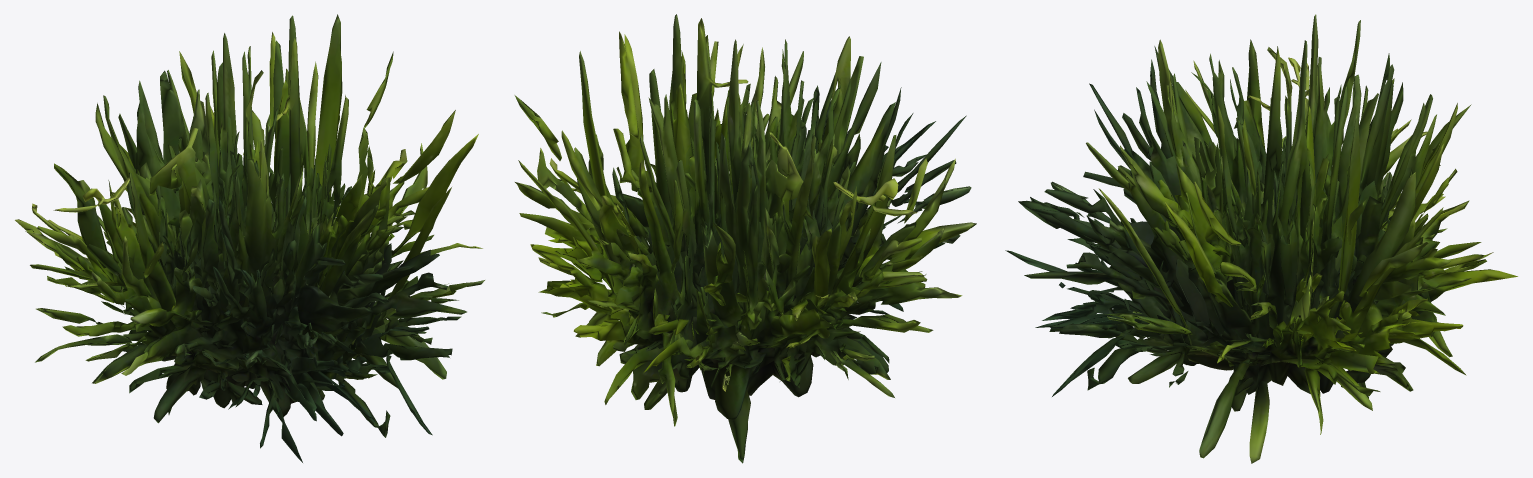
File: nature-grass-tuft.glb
3 views of the same model, side by side, from view 1: azimuth 30°, elevation 25°; view 2: azimuth 150°, elevation 25°; view 3: azimuth 270°, elevation 25° (orthographic). The views are drawn at different scales.
Parts seen in each view (by area): view 1: tripo_node_a7dcf7c7-27ab-40c4-97dd-bc070adfa35a; view 2: tripo_node_a7dcf7c7-27ab-40c4-97dd-bc070adfa35a; view 3: tripo_node_a7dcf7c7-27ab-40c4-97dd-bc070adfa35a.
Part boxes in pixels (left/top/right/bottom): tripo_node_a7dcf7c7-27ab-40c4-97dd-bc070adfa35a: left=15, top=14, right=484, bottom=462; tripo_node_a7dcf7c7-27ab-40c4-97dd-bc070adfa35a: left=514, top=14, right=976, bottom=463; tripo_node_a7dcf7c7-27ab-40c4-97dd-bc070adfa35a: left=1005, top=14, right=1517, bottom=463.
Bounding box in the file's own units: 0.5291 × 0.4992 × 0.561.
1 material, 1 textured.
